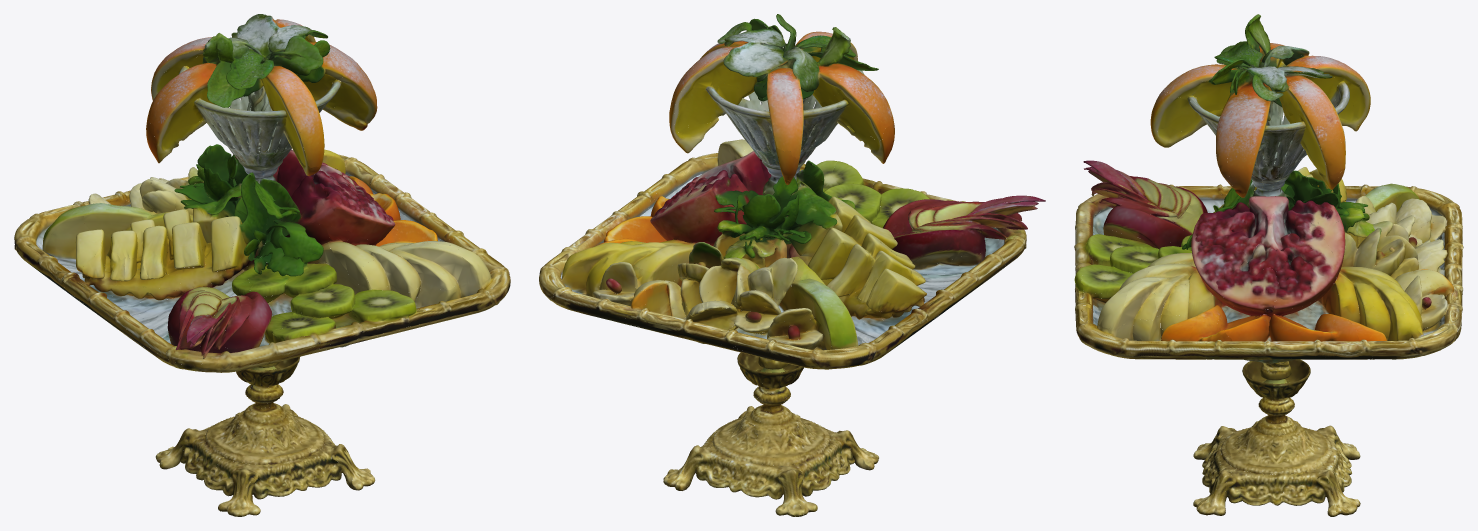
The model's file is meva-b.glb.
3 views of the same model, side by side, from view 1: azimuth 30°, elevation 25°; view 2: azimuth 150°, elevation 25°; view 3: azimuth 270°, elevation 25° (orthographic). The views are drawn at different scales.
Visible parts, largest first — view 1: meva2; view 2: meva2; view 3: meva2.
Part boxes in pixels (bbox=[...]): meva2: bbox=[14, 14, 510, 516]; meva2: bbox=[539, 14, 1045, 516]; meva2: bbox=[1074, 14, 1463, 516].
Size of the model in its own units: 0.7772 by 0.9816 by 0.7839.
Materials: 1 (1 with a texture image).
